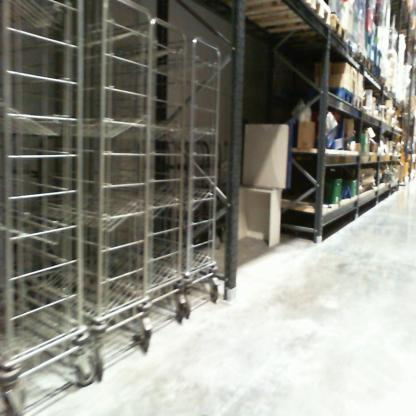pallet: (229, 2, 331, 33), (248, 17, 346, 41), (321, 86, 355, 101), (351, 94, 366, 112), (356, 48, 366, 68)
